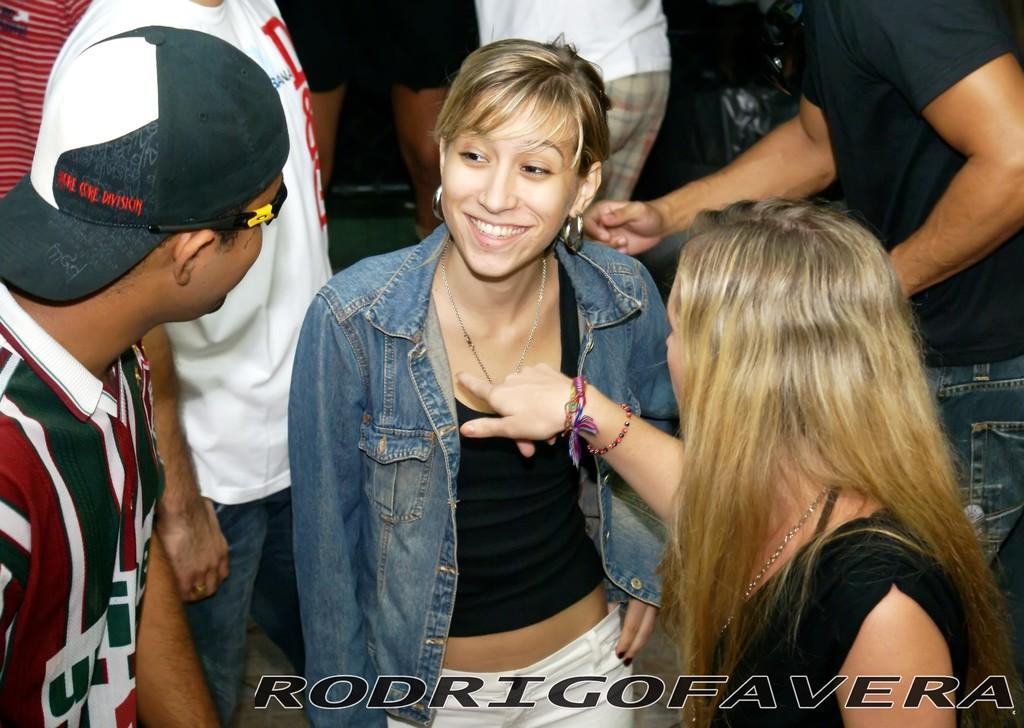Hat: (0, 22, 289, 302)
